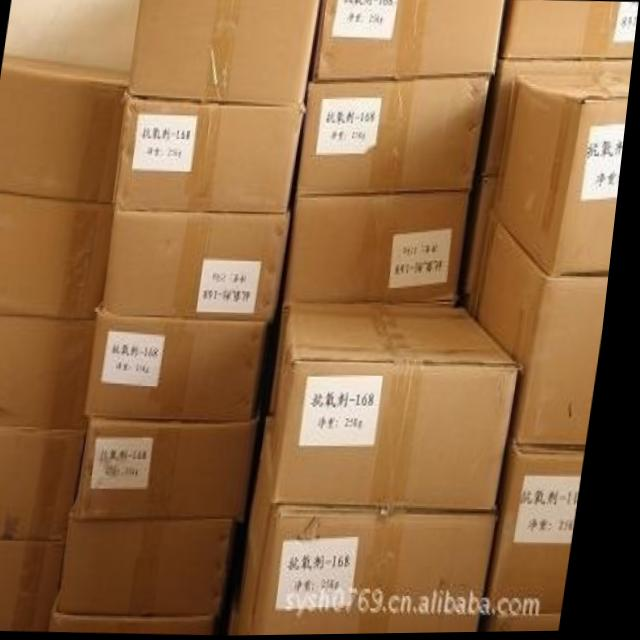box: (247, 417, 511, 636), (277, 304, 526, 513), (475, 211, 615, 446), (496, 71, 633, 279), (299, 75, 491, 196), (117, 93, 305, 215), (289, 191, 474, 308), (130, 0, 320, 110), (94, 308, 273, 423), (109, 211, 294, 322), (484, 42, 636, 177), (0, 53, 129, 205), (84, 415, 268, 520), (67, 518, 244, 618), (498, 442, 594, 616), (314, 0, 504, 84), (0, 190, 116, 320), (0, 313, 104, 430), (0, 423, 95, 542), (500, 0, 619, 61), (0, 539, 75, 632), (64, 610, 229, 636), (468, 176, 503, 295), (503, 614, 575, 633)
